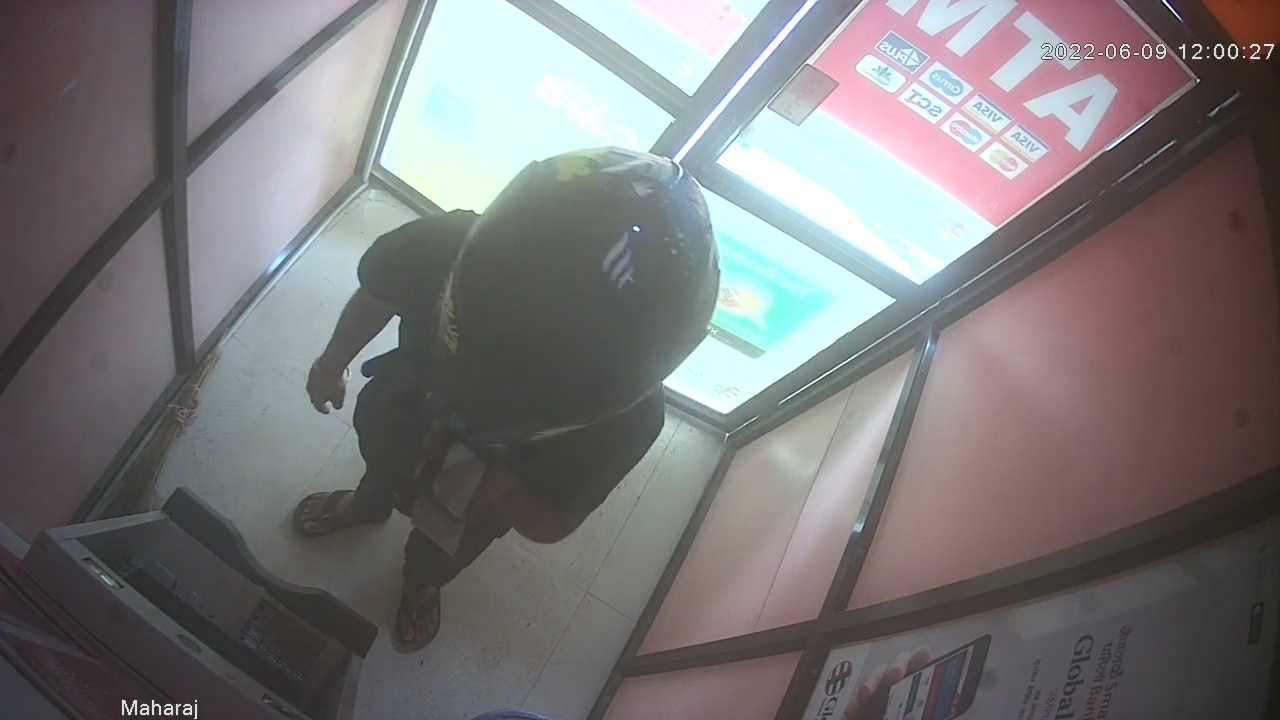helmet: (422, 146, 720, 450)
person: (289, 145, 721, 652)
